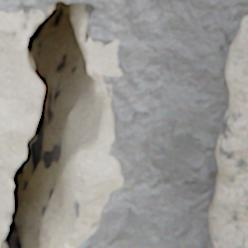brick: (203, 15, 247, 247)
broken_brick: (60, 28, 122, 247), (0, 8, 44, 239)
crack: (0, 0, 105, 247)
